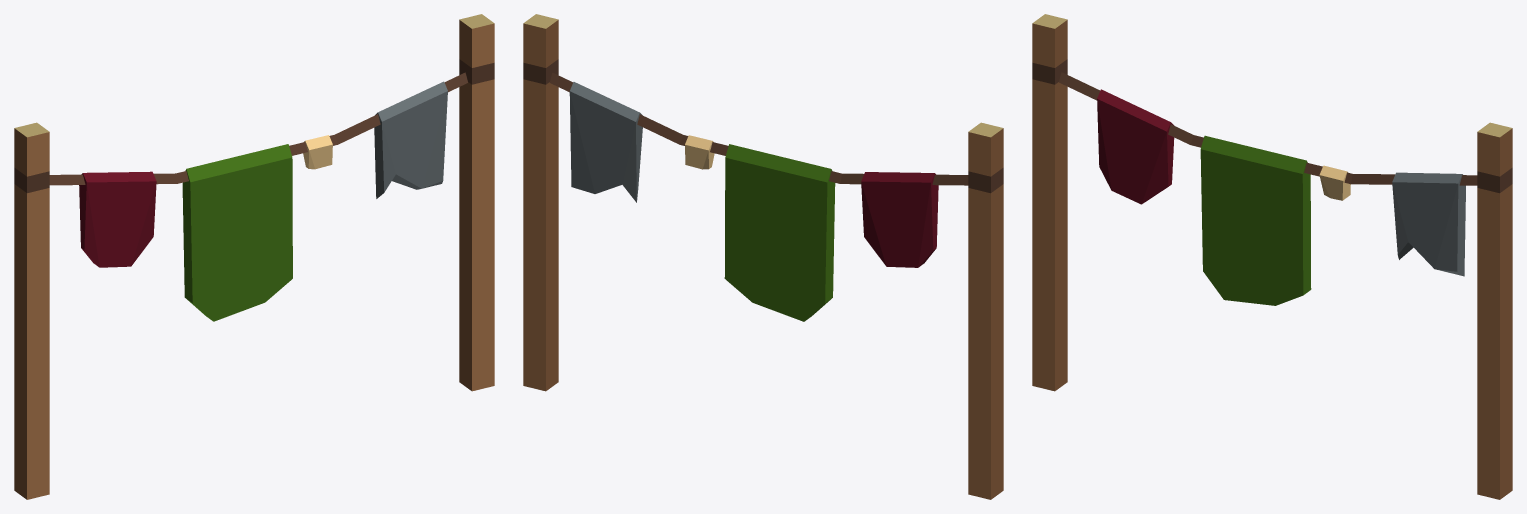
The model's file is TB_D_Prop_Loundry_B.FBX.
The picture shows the model from 3 angles, left to right: view 1: azimuth 30°, elevation 25°; view 2: azimuth 150°, elevation 25°; view 3: azimuth 330°, elevation 25°; orthographic projection.
Parts seen in each view (by area): view 1: TB_D_Prop_Loundry_B; view 2: TB_D_Prop_Loundry_B; view 3: TB_D_Prop_Loundry_B.
Part boxes in pixels (left/top/right/bottom): TB_D_Prop_Loundry_B: left=14, top=14, right=494, bottom=499; TB_D_Prop_Loundry_B: left=523, top=14, right=1003, bottom=499; TB_D_Prop_Loundry_B: left=1032, top=14, right=1512, bottom=499.
Bounding box in the file's own units: 3.53 × 2.62 × 0.1678.
